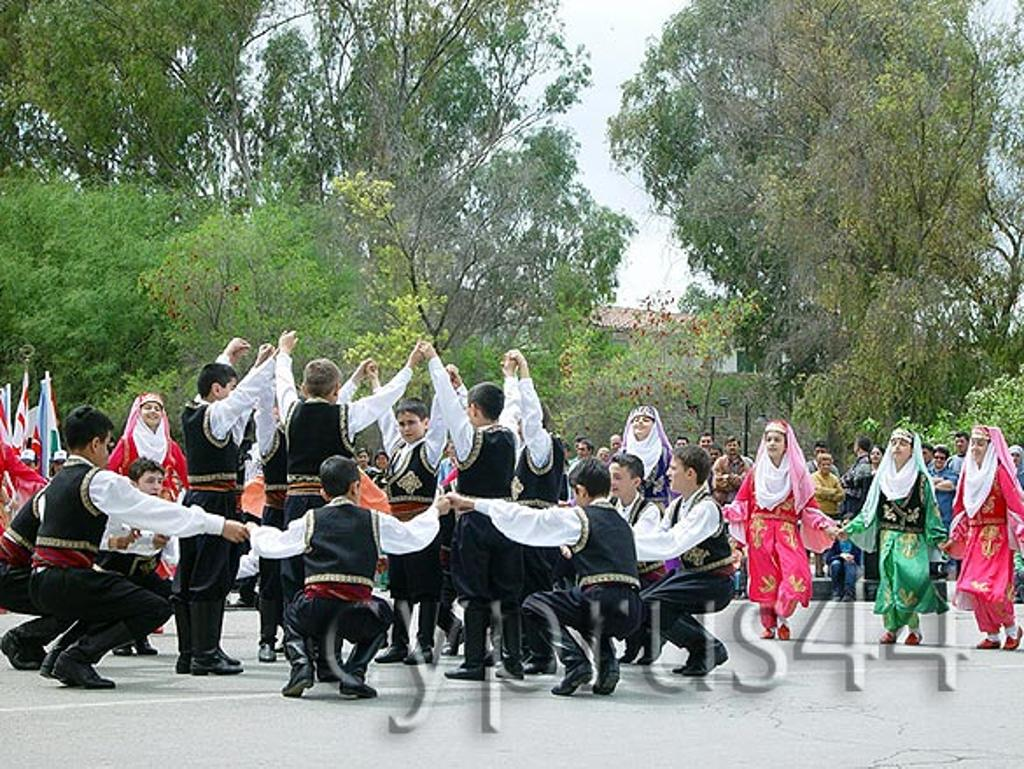face: (137, 472, 163, 508), (607, 462, 633, 497), (665, 453, 686, 495), (398, 412, 423, 442), (214, 377, 237, 406), (765, 430, 785, 457), (140, 400, 161, 424), (632, 415, 654, 435), (890, 438, 909, 458), (971, 438, 987, 460), (955, 437, 967, 453), (934, 451, 945, 467), (700, 435, 710, 451), (376, 454, 387, 468), (675, 439, 686, 453), (726, 440, 737, 454), (815, 445, 826, 459), (710, 449, 720, 464), (870, 448, 880, 463), (919, 447, 929, 462), (598, 450, 608, 464), (821, 459, 831, 473), (577, 443, 586, 458), (358, 452, 367, 465), (610, 438, 619, 451)
